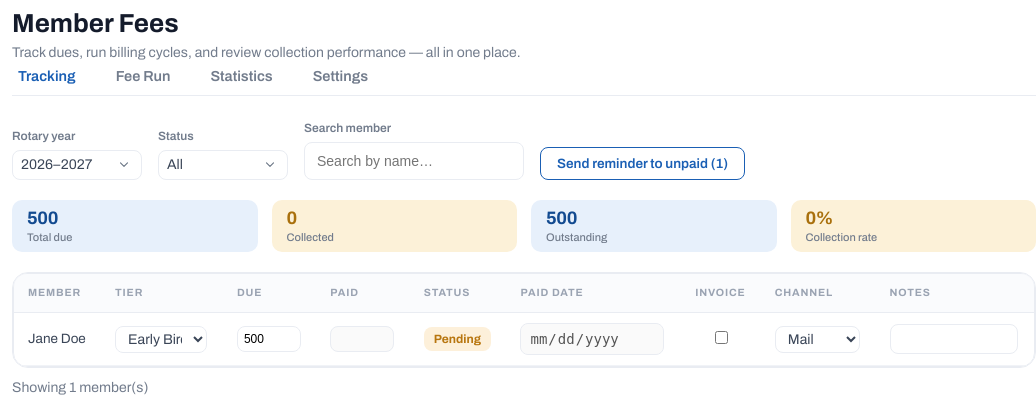
Test: MemberFees › Tracking tab › selecting Manual channel auto-checks invoice sent
This screenshot has width=1036, height=412.
Select "Manual" in the dropdown named "channel for jane doe" at (817, 339), box [775,326,860,353]
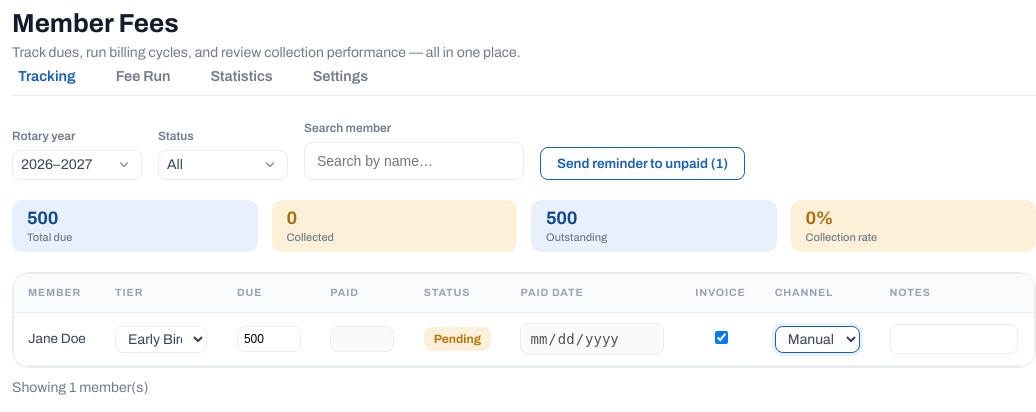
Check: the checkbox named "invoice sent for jane doe" is checked, box [715,331,728,344]
